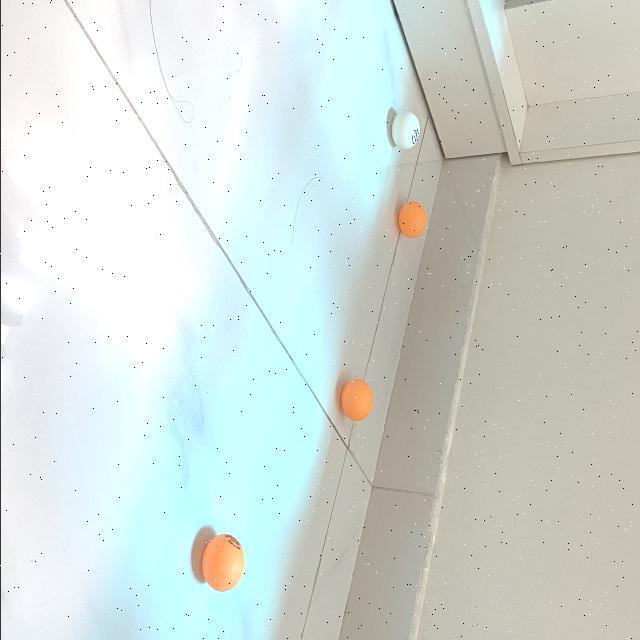ping-pong-ball: (200, 534, 244, 592), (339, 379, 373, 421), (389, 112, 420, 152), (396, 202, 426, 238)
